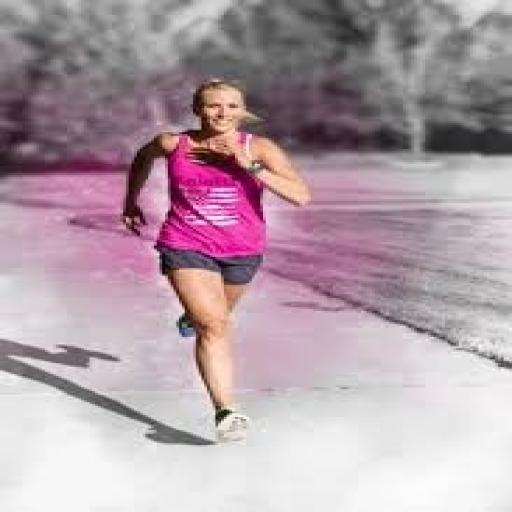running: (118, 76, 316, 443)
